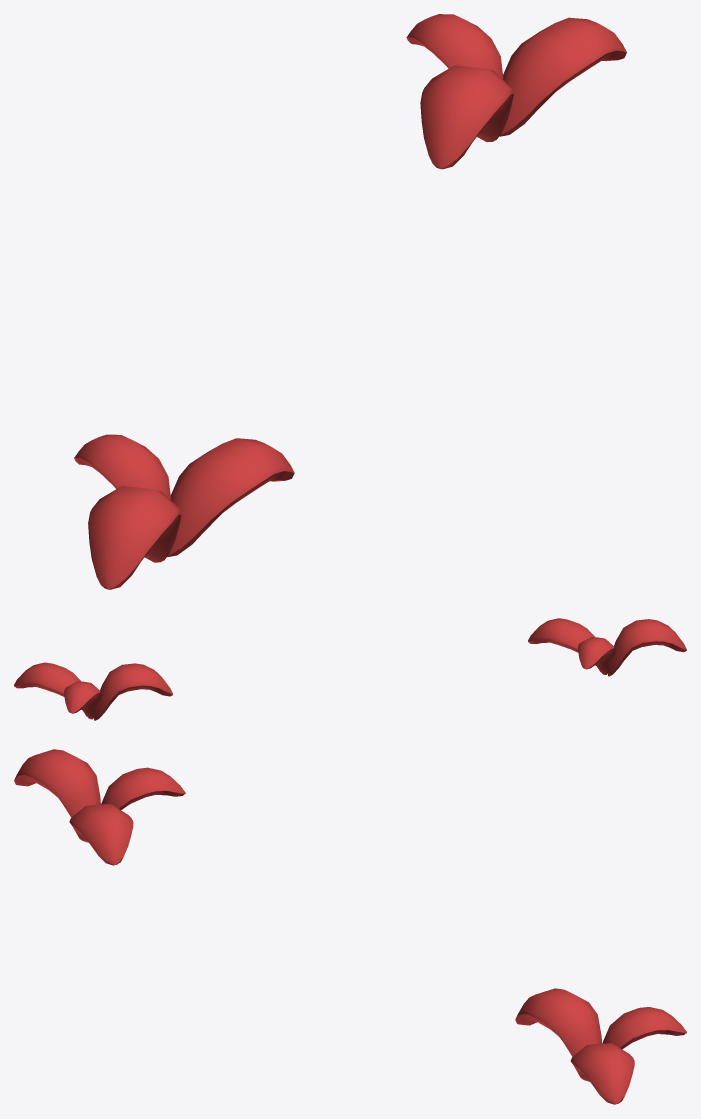
File: Treasure Island Plants (Grouped) - Lvl 1.fbx
3 views of the same model, one above another, from view 1: azimuth 30°, elevation 25°; view 2: azimuth 150°, elevation 25°; view 3: azimuth 270°, elevation 25° (orthographic). The views are drawn at different scales.
Parts seen in each view (by area): view 1: plantB_forest 6, plantB_forest 5; view 2: plantB_forest 6, plantB_forest 5; view 3: plantB_forest 5, plantB_forest 6.
Part boxes in pixels (bbox=[...]): plantB_forest 6: bbox=[406, 14, 626, 169]; plantB_forest 5: bbox=[74, 434, 294, 589]; plantB_forest 6: bbox=[14, 662, 172, 720]; plantB_forest 5: bbox=[528, 618, 686, 676]; plantB_forest 5: bbox=[14, 749, 185, 865]; plantB_forest 6: bbox=[515, 988, 686, 1104].
Size of the model in its own units: 149 by 129 by 15.19.
